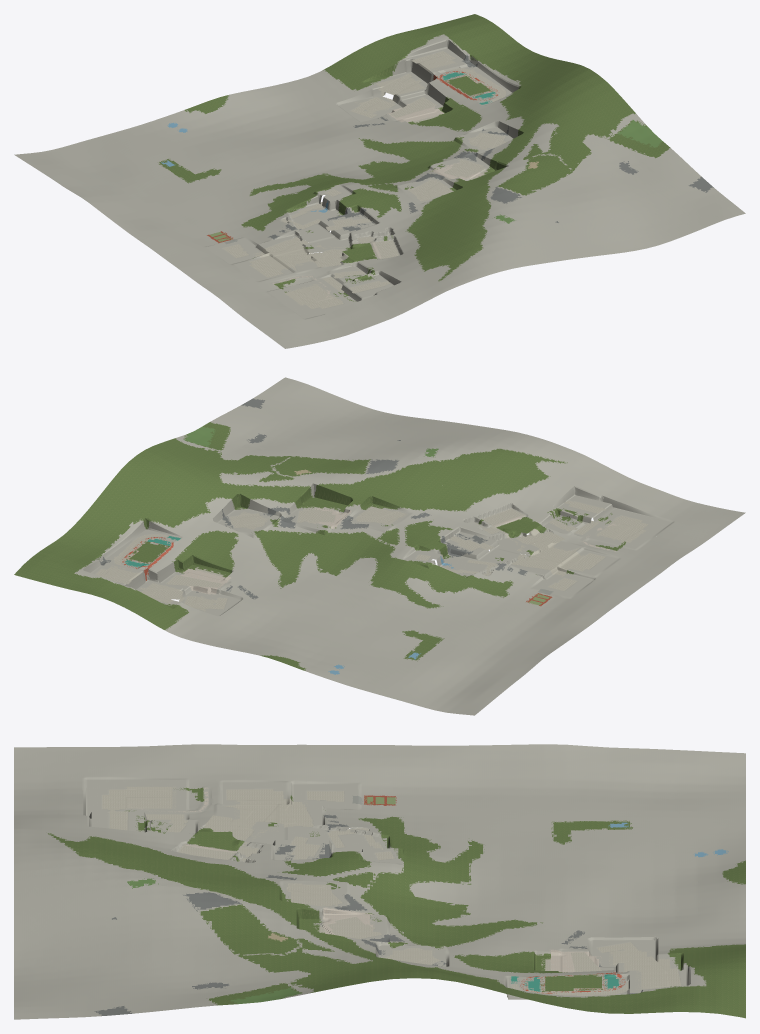
The picture shows the model from 3 angles, top to bottom: view 1: azimuth 30°, elevation 25°; view 2: azimuth 150°, elevation 25°; view 3: azimuth 270°, elevation 25°; orthographic projection. The views are drawn at different scales.
Parts seen in each view (by area): view 1: gachon-base, gachon-wood, gachon-paving, gachon-grass, gachon-asphalt, gachon-wood-overlay, gachon-graniteLight, gachon-courtTurf, gachon-grass-overlay; view 2: gachon-base, gachon-wood, gachon-paving, gachon-grass, gachon-asphalt, gachon-wood-overlay, gachon-graniteLight, gachon-grass-overlay; view 3: gachon-base, gachon-wood, gachon-paving, gachon-grass, gachon-asphalt, gachon-wood-overlay, gachon-graniteLight, gachon-pitchTurf, gachon-grass-overlay, gachon-courtTurf, gachon-turf, gachon-asphalt-overlay.
Part boxes in pixels (left/top/right/bottom): gachon-base: left=14, top=34, right=745, bottom=348; gachon-wood: left=185, top=14, right=635, bottom=279; gachon-paving: left=223, top=51, right=506, bottom=308; gachon-grass: left=159, top=121, right=670, bottom=295; gachon-asphalt: left=269, top=55, right=713, bottom=239; gachon-wood-overlay: left=185, top=35, right=627, bottom=281; gachon-graniteLight: left=272, top=104, right=481, bottom=283; gachon-courtTurf: left=495, top=120, right=662, bottom=222; gachon-grass-overlay: left=159, top=120, right=668, bottom=301; gachon-base: left=74, top=377, right=745, bottom=715; gachon-wood: left=14, top=438, right=564, bottom=670; gachon-paving: left=96, top=500, right=648, bottom=610; gachon-grass: left=184, top=422, right=622, bottom=660; gachon-asphalt: left=99, top=398, right=527, bottom=598; gachon-wood-overlay: left=76, top=441, right=567, bottom=670; gachon-graniteLight: left=180, top=508, right=615, bottom=594; gachon-grass-overlay: left=183, top=423, right=625, bottom=661; gachon-base: left=14, top=744, right=745, bottom=1019; gachon-wood: left=48, top=817, right=745, bottom=1018; gachon-paving: left=102, top=787, right=681, bottom=995; gachon-grass: left=138, top=787, right=632, bottom=1005; gachon-asphalt: left=96, top=815, right=642, bottom=1015; gachon-wood-overlay: left=48, top=816, right=745, bottom=997; gachon-graniteLight: left=186, top=787, right=600, bottom=972; gachon-pitchTurf: left=545, top=974, right=601, bottom=990; gachon-grass-overlay: left=126, top=788, right=631, bottom=1004; gachon-courtTurf: left=130, top=878, right=301, bottom=1004; gachon-turf: left=198, top=831, right=232, bottom=850; gachon-asphalt-overlay: left=94, top=814, right=642, bottom=1013.
Bounding box in the file's own units: 1016 × 132 × 1036.
34 materials, 19 textured.
